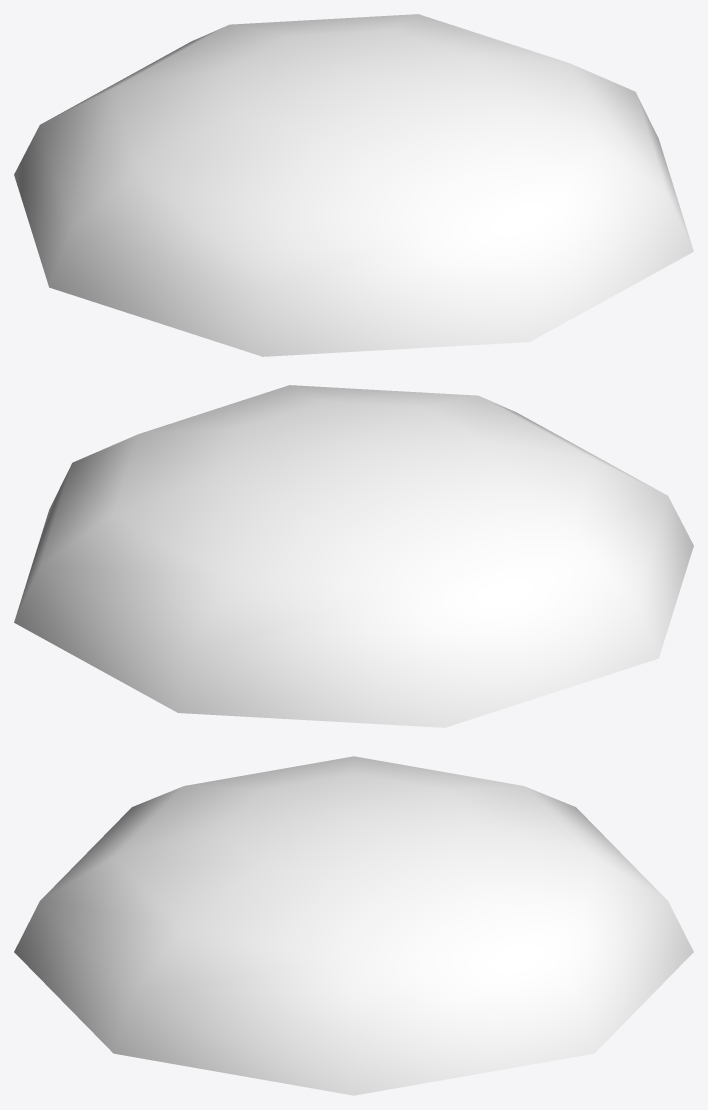
Rendered from bumper_old.obj.
3 views of the same model, one above another, from view 1: azimuth 30°, elevation 25°; view 2: azimuth 150°, elevation 25°; view 3: azimuth 270°, elevation 25° (orthographic). The views are drawn at different scales.
Parts seen in each view (by area): view 1: Sphere; view 2: Sphere; view 3: Sphere.
Boxes of the visible parts, left/top/right/bottom form: Sphere: left=14, top=14, right=693, bottom=356; Sphere: left=14, top=385, right=693, bottom=727; Sphere: left=14, top=756, right=693, bottom=1095.
Bounding box in the file's own units: 1.46 × 0.3159 × 1.46.
1 material, 1 textured.
